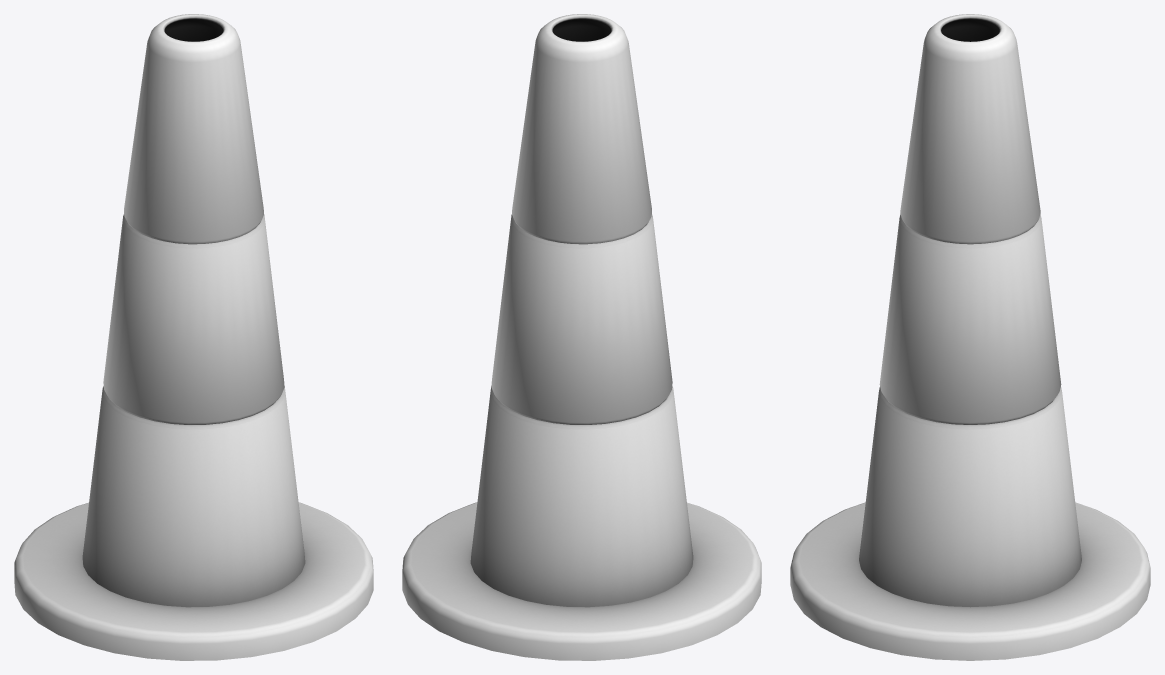
File: traffic_cone.obj
The picture shows the model from 3 angles, left to right: view 1: azimuth 30°, elevation 25°; view 2: azimuth 150°, elevation 25°; view 3: azimuth 270°, elevation 25°; orthographic projection.
Visible parts, largest first — view 1: traffic_cone; view 2: traffic_cone; view 3: traffic_cone.
Part boxes in pixels (left/top/right/bottom): traffic_cone: left=14, top=14, right=373, bottom=660; traffic_cone: left=402, top=14, right=761, bottom=660; traffic_cone: left=790, top=14, right=1150, bottom=660.
Bounding box in the file's own units: 1.95 × 3.33 × 1.95.
